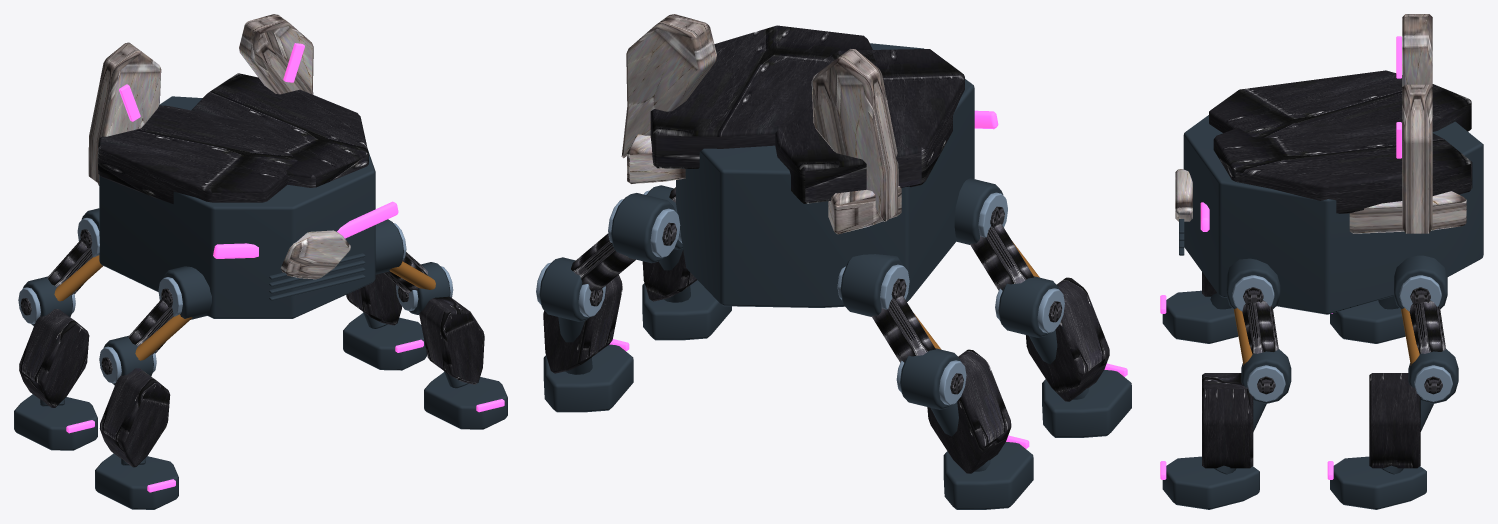
File: quad.glb
3 renders of one model, left to right at view 1: azimuth 30°, elevation 25°; view 2: azimuth 150°, elevation 25°; view 3: azimuth 270°, elevation 25°, orthographic. The views are drawn at different scales.
Parts seen in each view (by area): view 1: Sloped crawler body, Layered beetle carapace, Swept cobalt shell, Servo housing.002, Servo housing.006, Swept crawler greave, Swept crawler greave.001, Servo housing, Swept crawler greave.003, Servo housing.004, Swept crawler greave.002, Crawler eye (+9 smaller); view 2: Sloped crawler body, Layered beetle carapace, Swept cobalt shell, Servo housing, Servo housing.004, Servo housing.002, Swept crawler greave, Swept crawler greave.001, Servo housing.006, Swept crawler greave.002, Hub, Hub.004 (+5 smaller); view 3: Sloped crawler body, Layered beetle carapace, Swept cobalt shell, Servo housing.004, Servo housing.006, Swept crawler greave.002, Swept crawler greave.003, Servo housing.002, Servo housing, Hub.008, Hub.012, Bearing ring.012 (+4 smaller).
Part boxes in pixels (x1,y1,x2,y2): Sloped crawler body: (99,96,375,318); Layered beetle carapace: (98,73,368,203); Swept cobalt shell: (88,14,350,279); Servo housing.002: (95,266,211,509); Servo housing.006: (375,219,507,429); Swept crawler greave: (19,309,89,407); Swept crawler greave.001: (99,368,170,467); Servo housing: (14,208,99,450); Swept crawler greave.003: (419,296,484,384); Servo housing.004: (343,312,426,370); Swept crawler greave.002: (346,273,401,325); Crawler eye: (213,201,398,258); Sloped crawler body: (676,43,974,307); Layered beetle carapace: (650,25,964,203); Swept cobalt shell: (621,14,901,234); Servo housing: (840,254,1033,509); Servo housing.004: (539,193,675,412); Servo housing.002: (954,178,1131,437); Swept crawler greave: (927,349,1011,473); Swept crawler greave.001: (1026,277,1109,401); Servo housing.006: (642,185,731,340); Swept crawler greave.002: (543,274,622,373); Hub: (871,278,963,394); Hub.004: (970,206,1062,322); Sloped crawler body: (1179,115,1483,314); Layered beetle carapace: (1209,70,1472,213); Swept cobalt shell: (1175,14,1466,233); Servo housing.004: (1330,255,1458,509); Servo housing.006: (1162,258,1291,509); Swept crawler greave.002: (1369,373,1420,468); Swept crawler greave.003: (1202,373,1253,468); Servo housing.002: (1162,290,1238,343); Servo housing: (1330,296,1405,343); Hub.008: (1409,287,1445,394); Hub.012: (1242,287,1278,394); Bearing ring.012: (1232,275,1285,401).
Bounding box in the file's own units: 1.46 × 1.24 × 1.
Materials: 8 (3 with a texture image).
